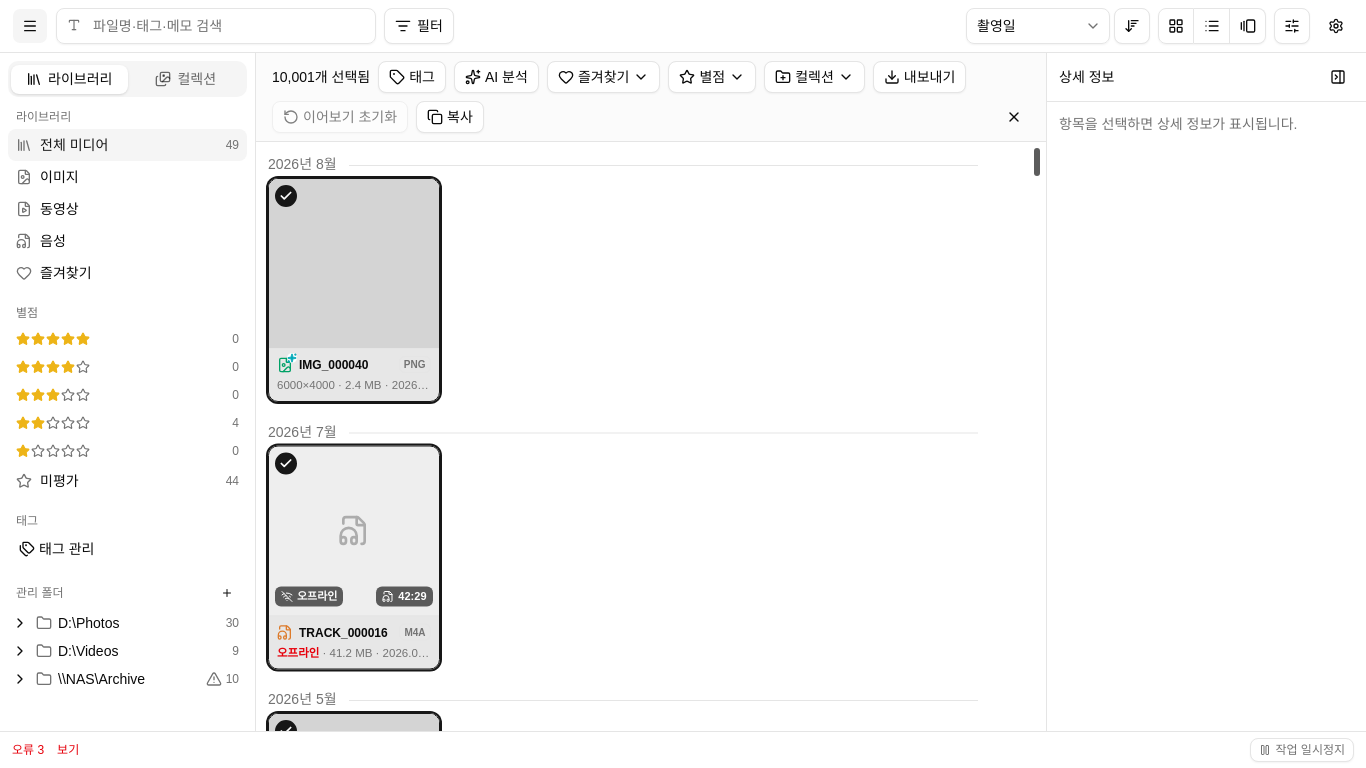
Scenario: collection membership checks › T-ui-memb-04 [Boundary] a selection over 10,000 disables every collection and does not query membership
Click the button "컬렉션": (814, 77) [764,61,865,93]
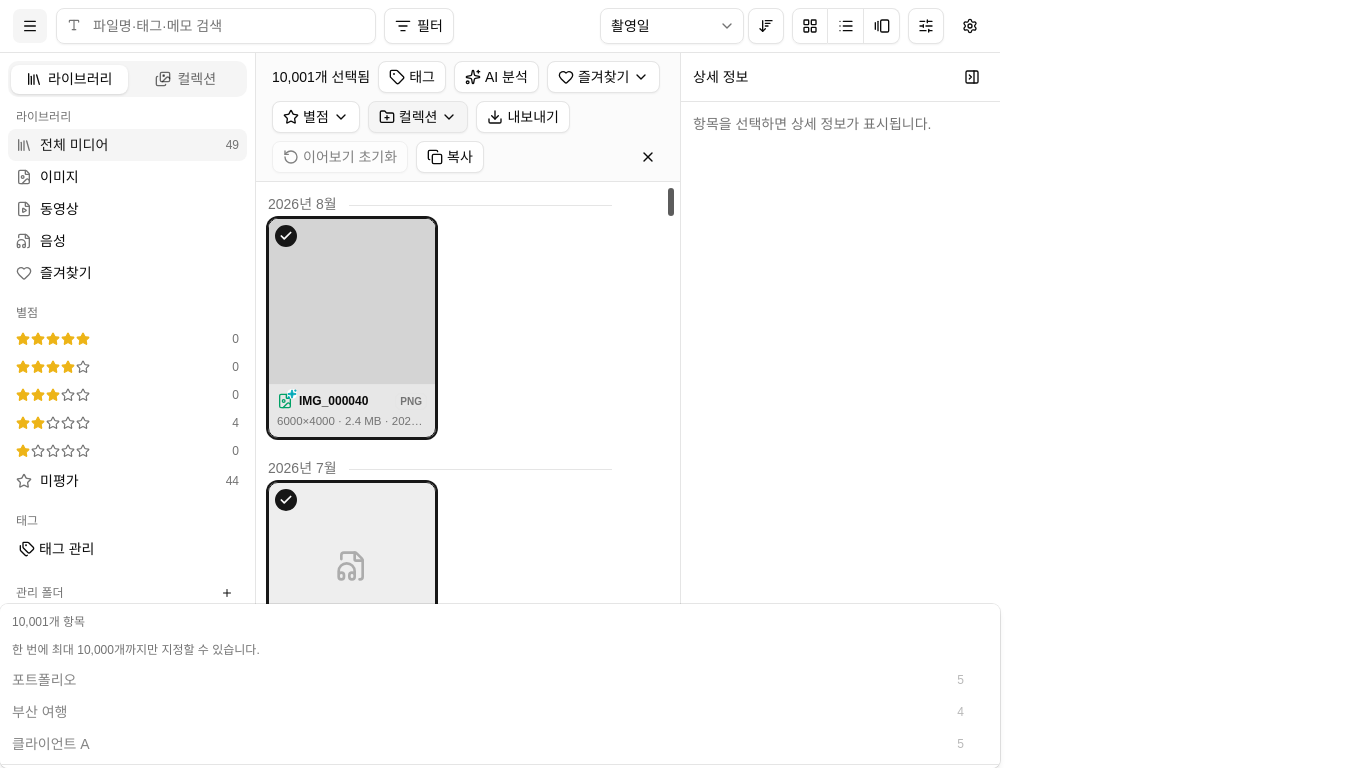
Result: the text "한 번에 최대 10,000개까지만 지정할 수 있습니다." is shown at [12,643,260,657]
